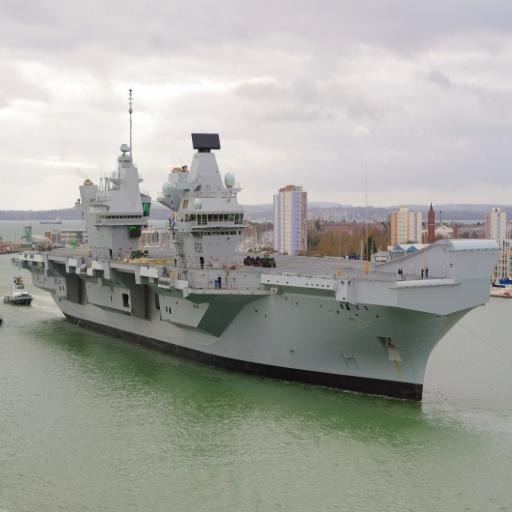Portanaves: (13, 66, 505, 410)
